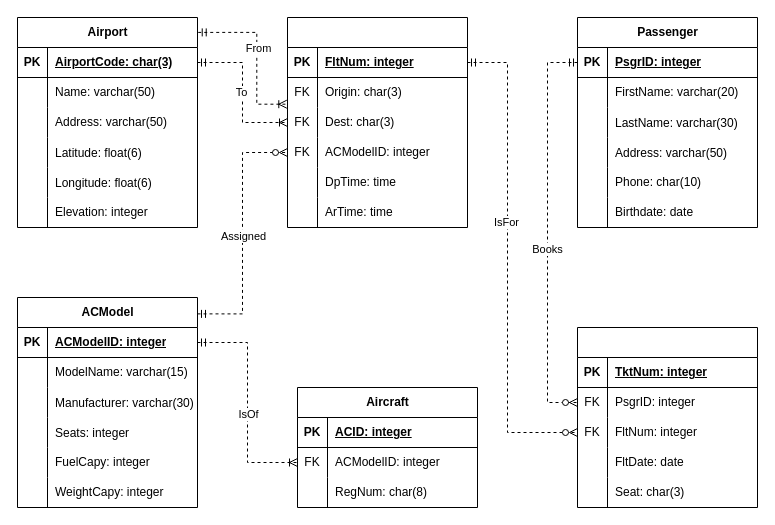
This 775x525 diagram has some shape labels left out. Each missing label, with the box of its shape:
Flight: (286, 16, 468, 228)
Ticket: (576, 326, 758, 508)
